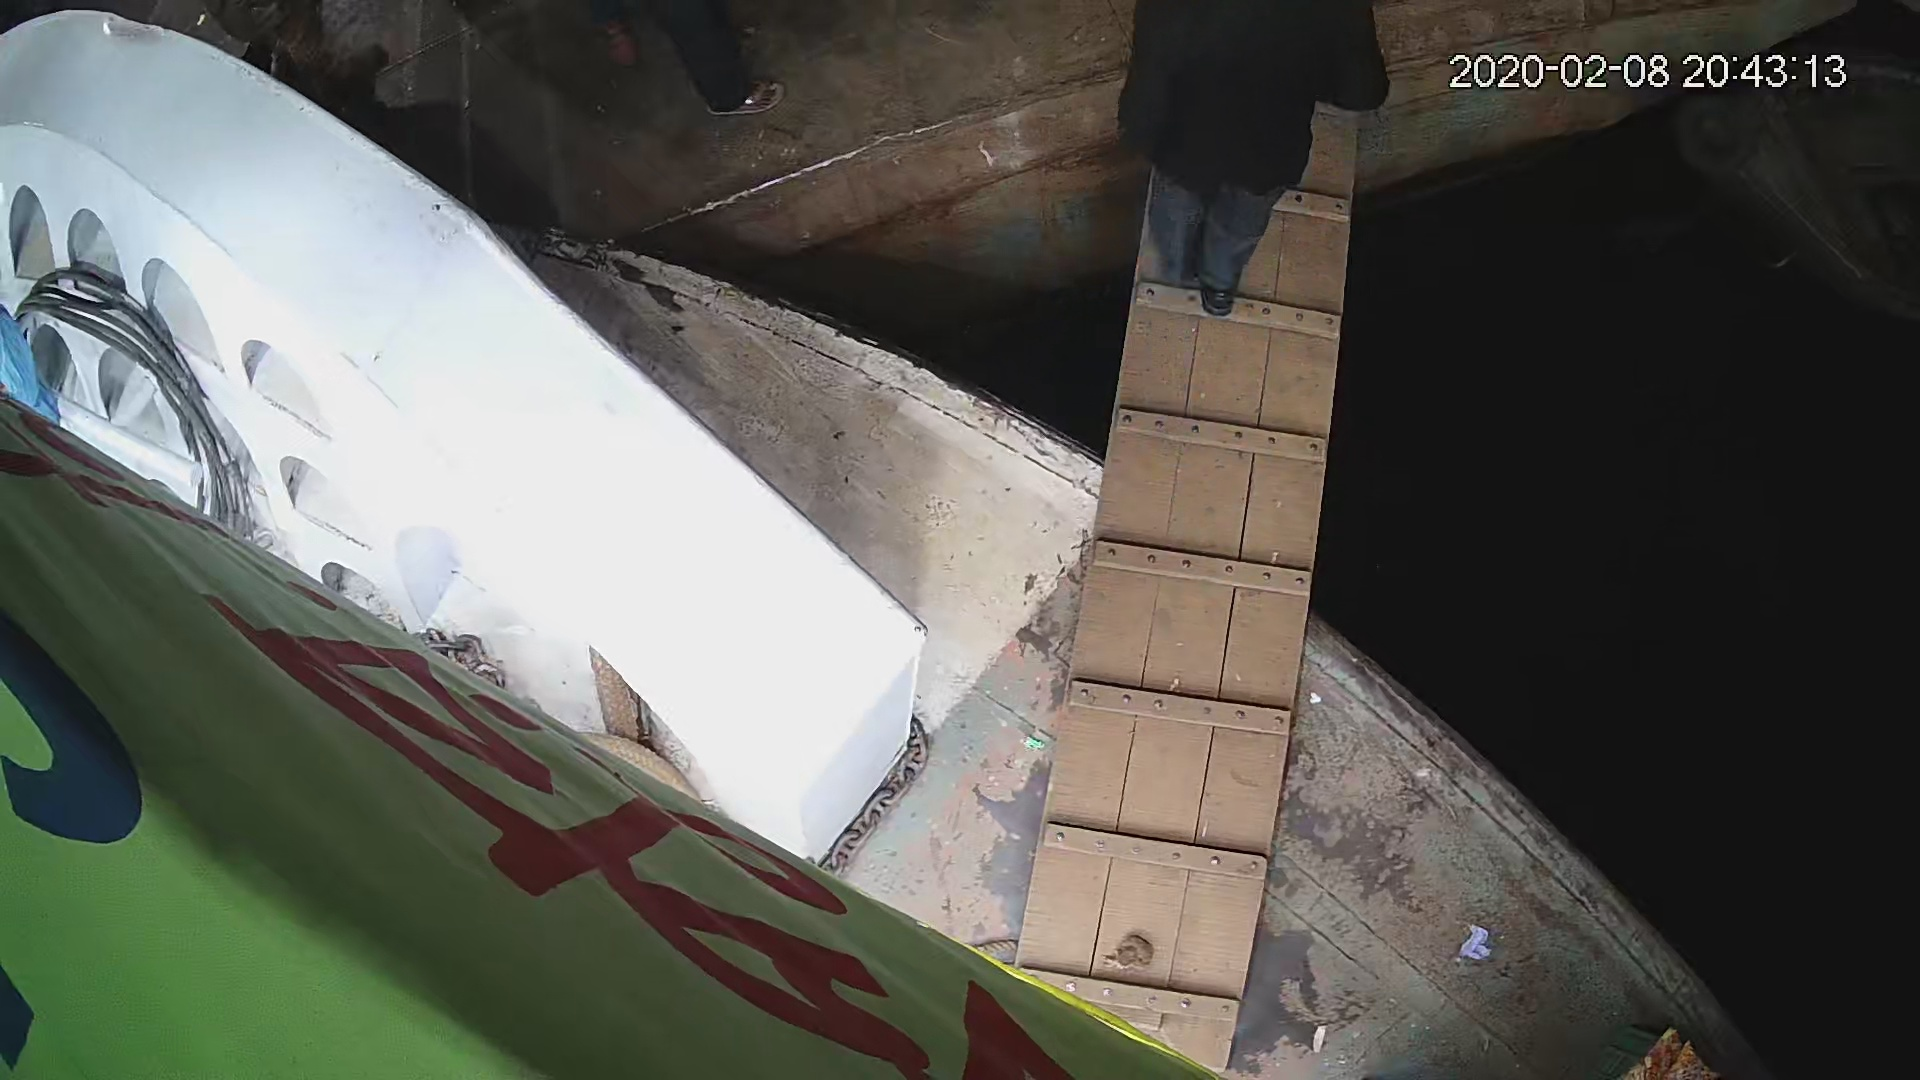person: (1111, 1, 1392, 324)
